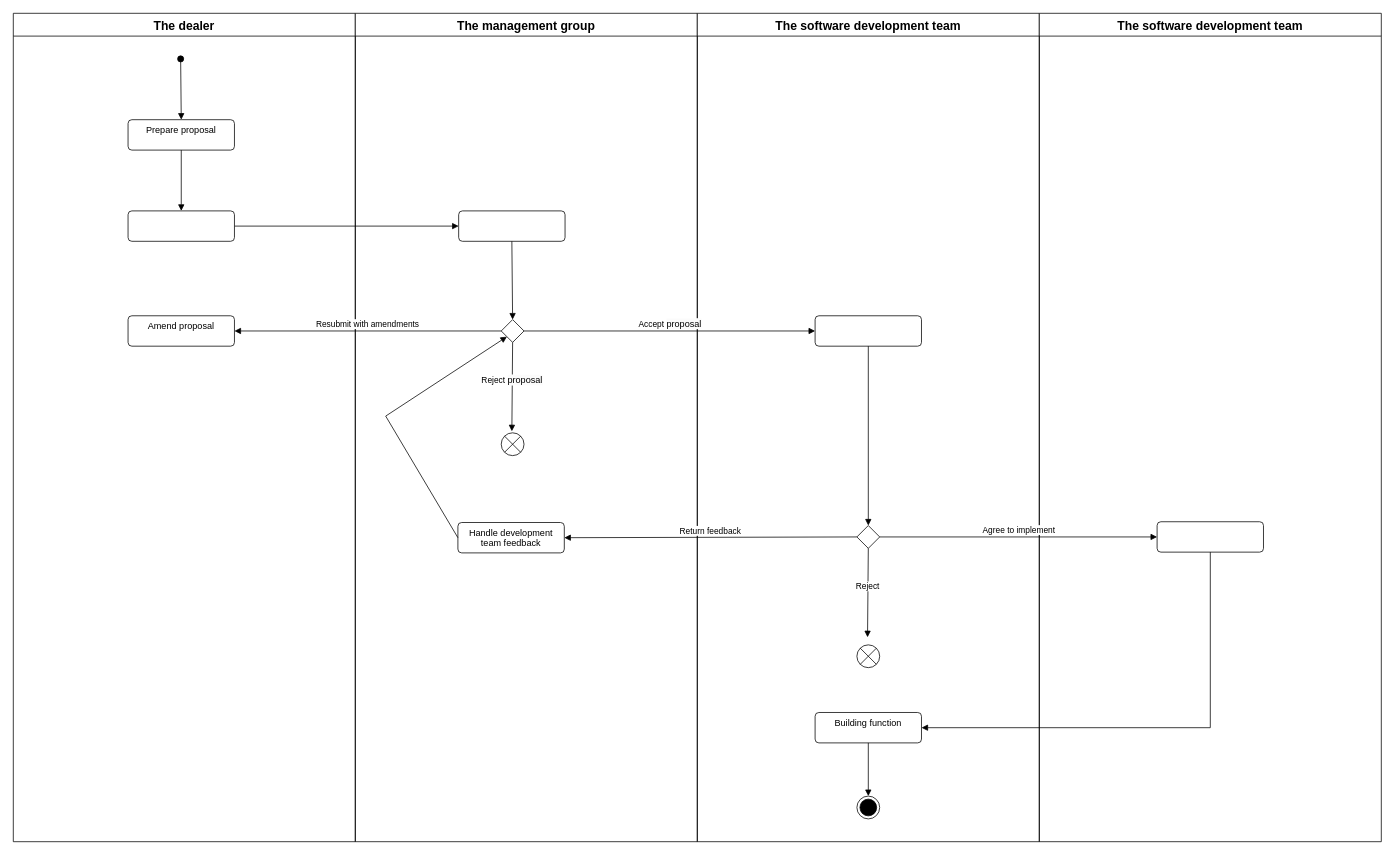
Some shapes in this 1395 by 855 pixel diagram are drawn without their labels. The centre of each missing label's shape, as x and y in pixels:
"Arranges plans" belongs at point 1210,536.
"Assess the feasibility of proposal" belongs at point 868,330.
"Meet to review proposal" belongs at point 511,225.
"Submit proposal" belongs at point 180,225.
